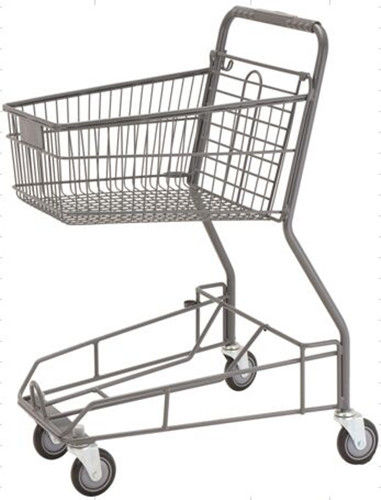with_basket: (9, 6, 381, 490)
